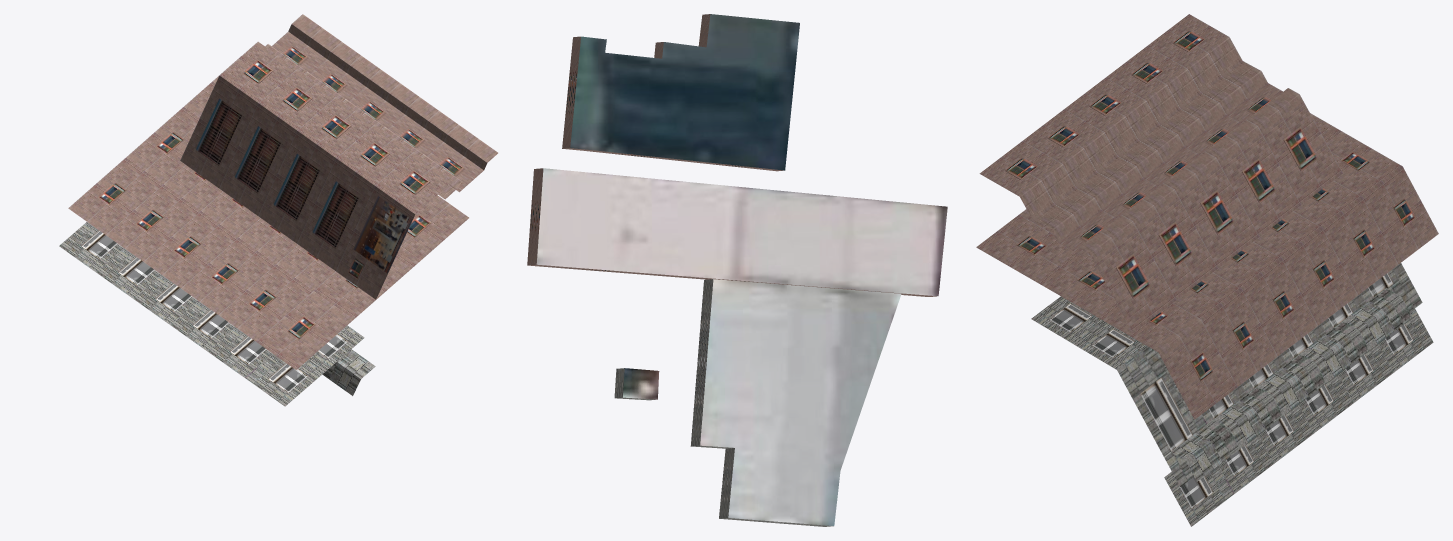
3 views of the same model, side by side, from view 1: azimuth 30°, elevation 25°; view 2: azimuth 150°, elevation 25°; view 3: azimuth 270°, elevation 25° (orthographic). The views are drawn at different scales.
Size of the model in its own units: 28.75 by 31.91 by 27.22.
Materials: 10 (10 with a texture image).
